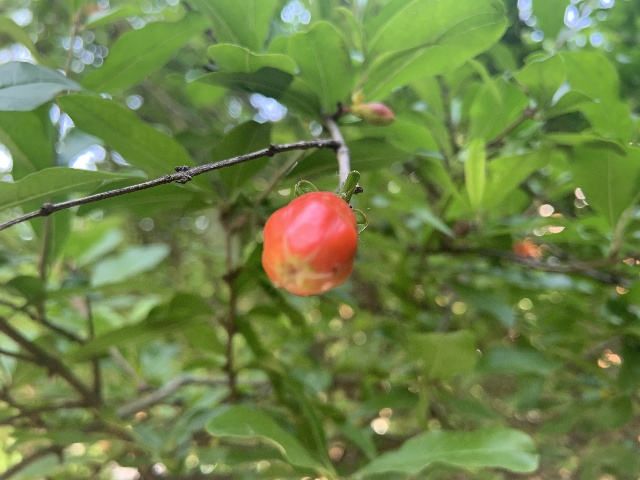bud: (261, 190, 357, 296)
